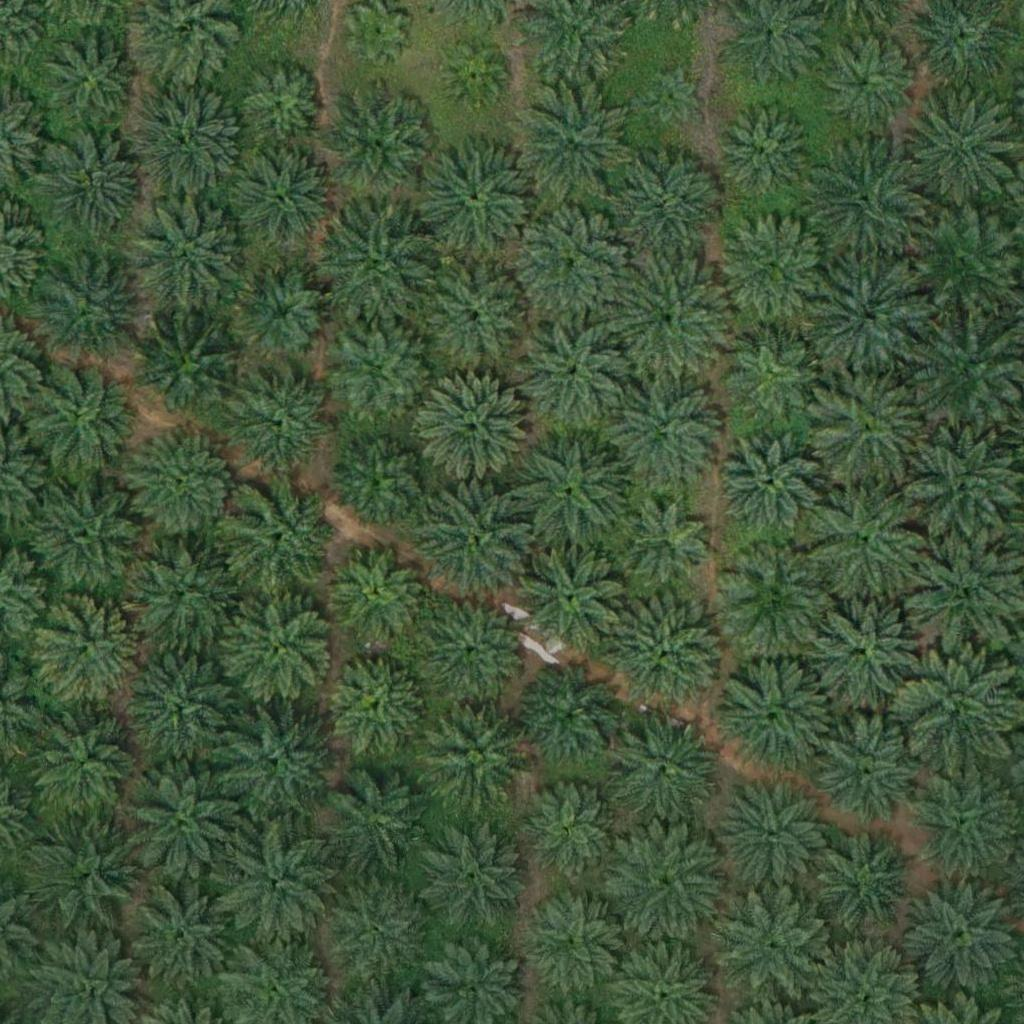Kelapa_Sawit: (904, 201, 1017, 315), (810, 137, 923, 251), (135, 309, 248, 423), (20, 361, 133, 475), (127, 427, 240, 541), (225, 480, 338, 594), (222, 591, 335, 705), (323, 763, 436, 877), (810, 259, 923, 372), (513, 83, 626, 196), (517, 206, 630, 319), (419, 143, 532, 256), (131, 85, 244, 198), (132, 200, 245, 313), (34, 30, 147, 143), (123, 540, 236, 653), (419, 373, 532, 486), (512, 318, 625, 431), (515, 432, 628, 545), (516, 537, 629, 650), (610, 597, 723, 710), (720, 656, 833, 769), (811, 372, 924, 485), (906, 431, 1019, 544), (908, 537, 1021, 650), (902, 652, 1015, 765), (716, 778, 829, 891), (720, 894, 833, 1007), (607, 713, 720, 826), (612, 827, 725, 940), (320, 876, 433, 989), (220, 707, 333, 820), (222, 829, 335, 942), (30, 249, 142, 363), (417, 698, 529, 812), (416, 822, 528, 936), (906, 87, 1018, 200), (717, 214, 829, 327), (611, 148, 723, 261), (613, 261, 725, 374), (419, 262, 531, 375), (323, 89, 435, 202), (322, 211, 434, 324), (225, 147, 337, 260), (35, 132, 147, 245), (32, 479, 144, 592), (33, 594, 145, 707), (130, 647, 242, 760), (417, 486, 529, 599), (415, 596, 527, 709), (607, 379, 719, 492), (719, 542, 831, 655), (813, 484, 925, 597), (811, 590, 923, 703), (908, 769, 1020, 882), (905, 880, 1017, 993), (815, 714, 927, 827), (128, 766, 240, 879), (125, 877, 237, 990), (28, 710, 140, 823), (31, 825, 143, 938), (233, 264, 333, 365), (333, 319, 433, 420), (334, 429, 434, 530), (518, 664, 618, 765), (618, 497, 718, 598), (722, 319, 822, 420), (718, 430, 818, 531), (820, 831, 920, 932), (815, 31, 915, 131), (713, 100, 813, 200), (236, 369, 336, 469), (332, 544, 432, 644), (328, 656, 428, 756), (519, 783, 619, 883), (524, 897, 624, 997), (237, 57, 325, 145), (443, 44, 506, 107), (346, 1, 409, 64), (640, 64, 702, 127)
